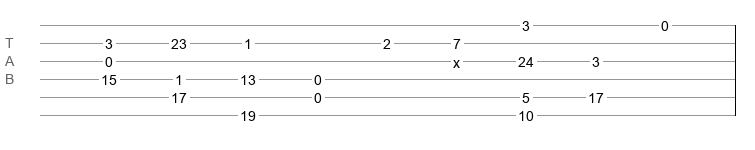0: (105, 54, 113, 64), (314, 90, 322, 100), (314, 72, 322, 82), (661, 18, 669, 28)
1: (175, 72, 183, 82), (244, 36, 252, 46)
10: (518, 108, 534, 118)
13: (240, 72, 256, 82)
15: (101, 72, 117, 82)
17: (171, 90, 187, 100), (588, 90, 604, 100)
19: (240, 108, 256, 118)
2: (383, 36, 391, 46)
23: (171, 36, 187, 46)
24: (518, 54, 534, 64)
3: (105, 36, 113, 46), (522, 18, 530, 28), (592, 54, 600, 64)
5: (522, 90, 530, 100)
7: (453, 36, 461, 46)
x: (453, 55, 460, 63)
